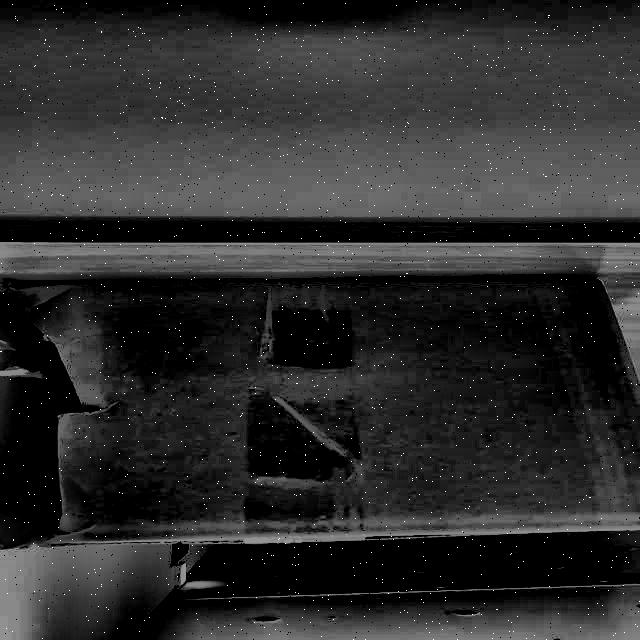box: (1, 264, 640, 562)
hole: (0, 288, 89, 546)
